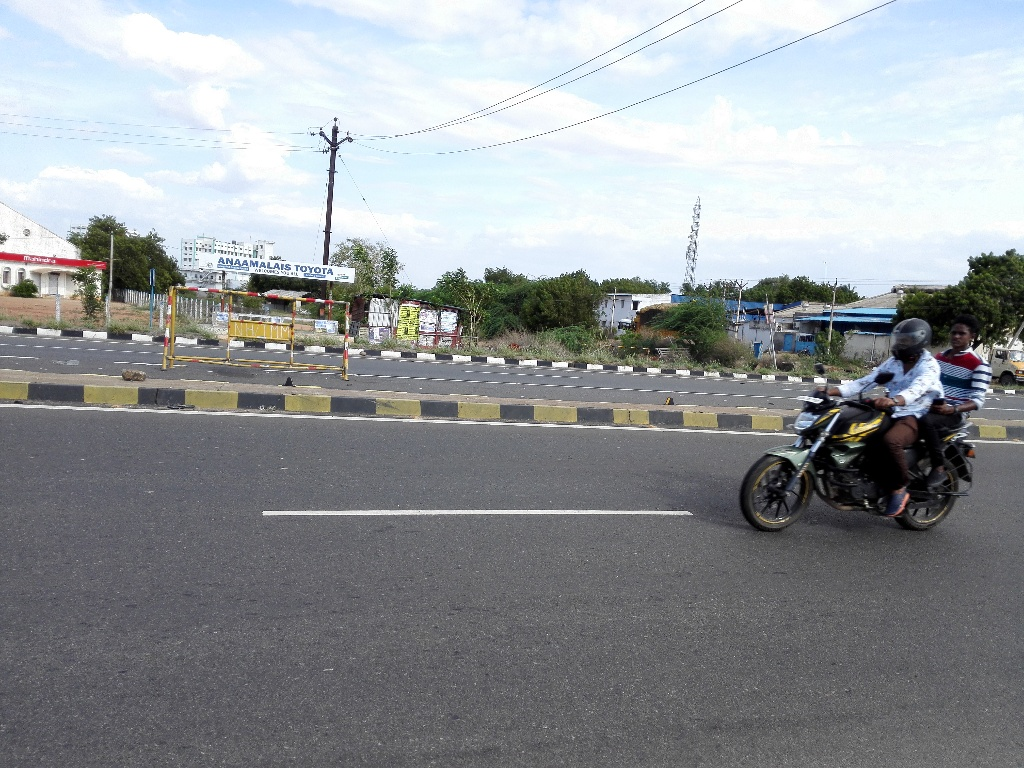biker: (721, 263, 1008, 552)
helmet: (881, 307, 937, 369)
nohelmet: (943, 302, 981, 362)
